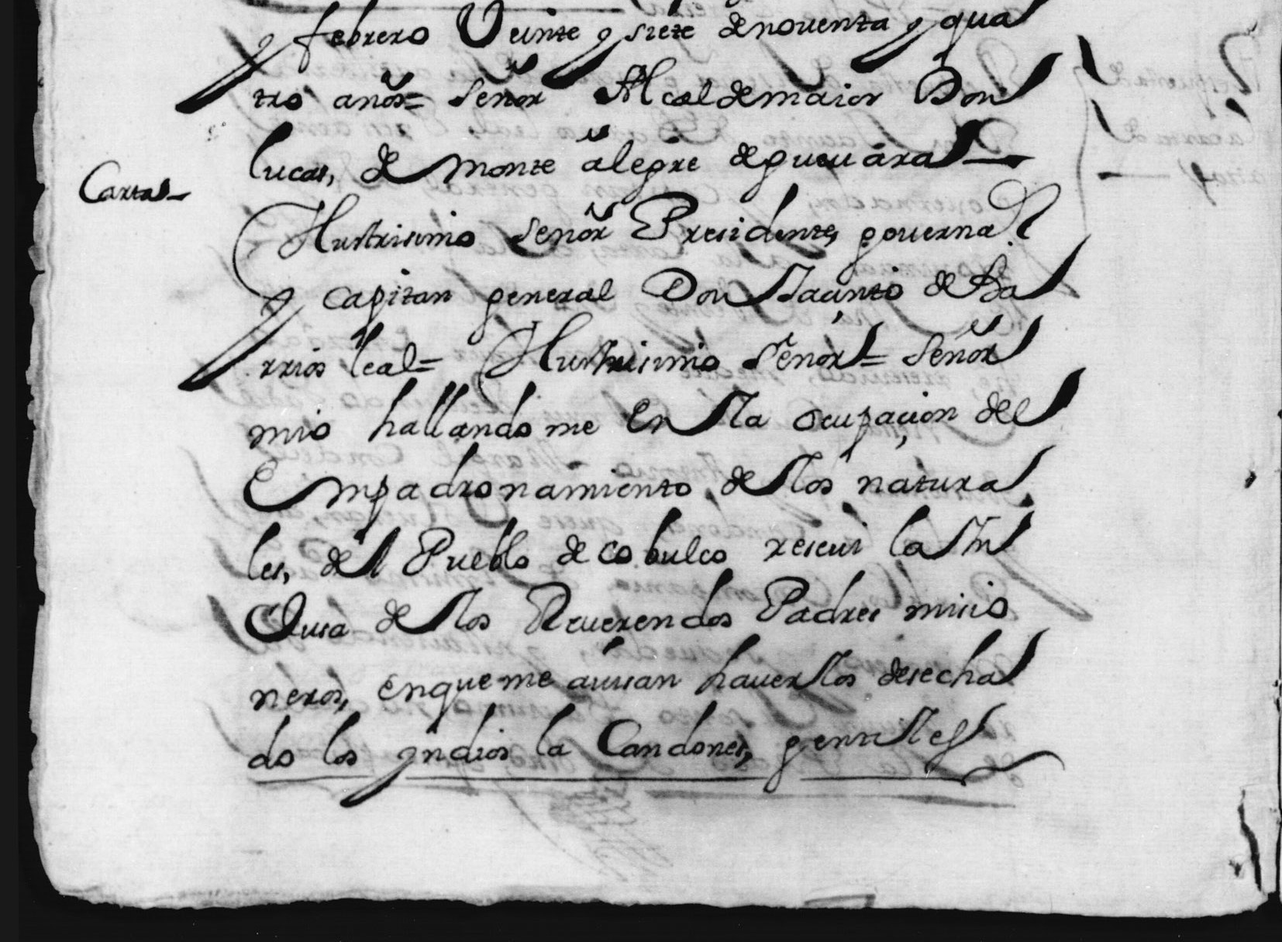lacandon: (536, 699, 750, 758)
